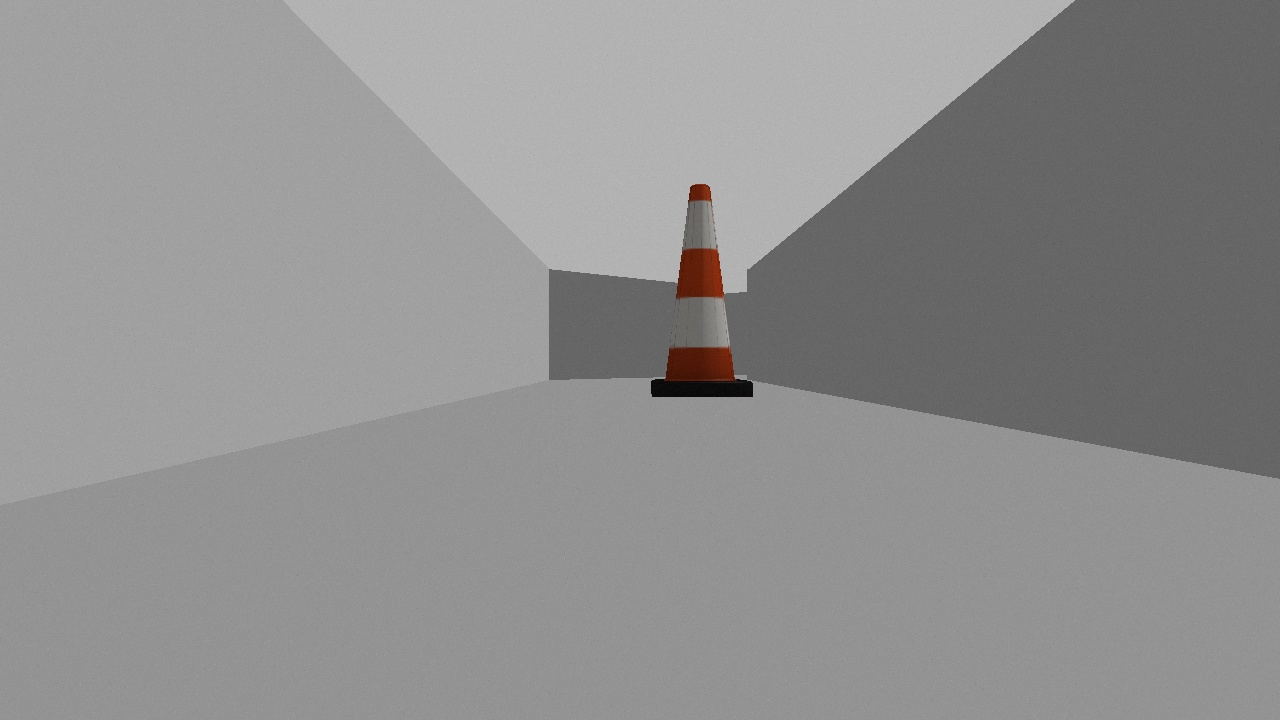barricade: (650, 183, 752, 398)
